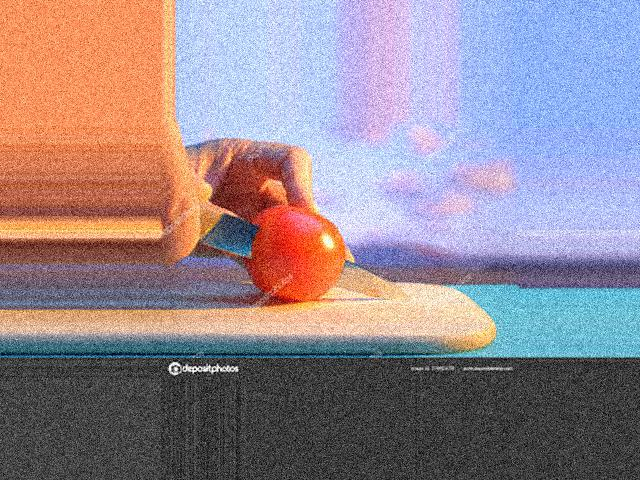tomato: (245, 207, 347, 303)
